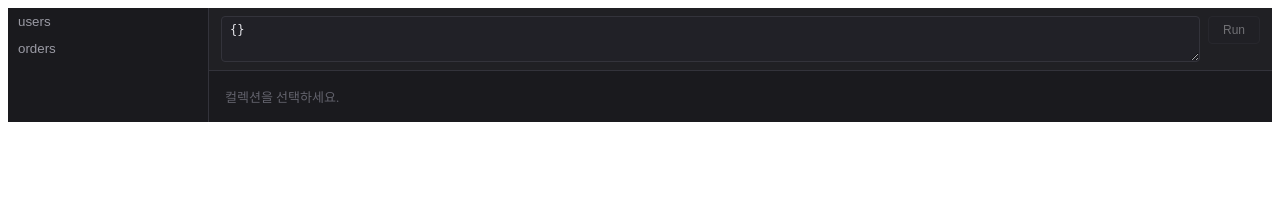
Test case: DocumentsView › 컬렉션 선택 후 Run을 누르면 find 결과가 prettified JSON으로 뜬다
The image size is (1280, 216).
Step 1. Click the button "users" → coordinates (108, 22), box [8,8,208,35]
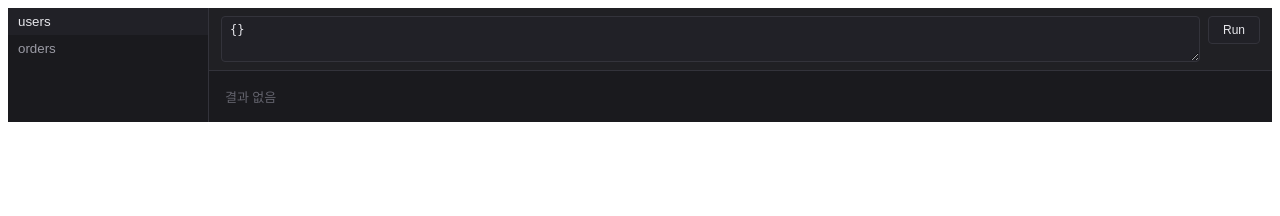
Step 2. Click the button "Run" → coordinates (1234, 30), box [1208,16,1260,44]
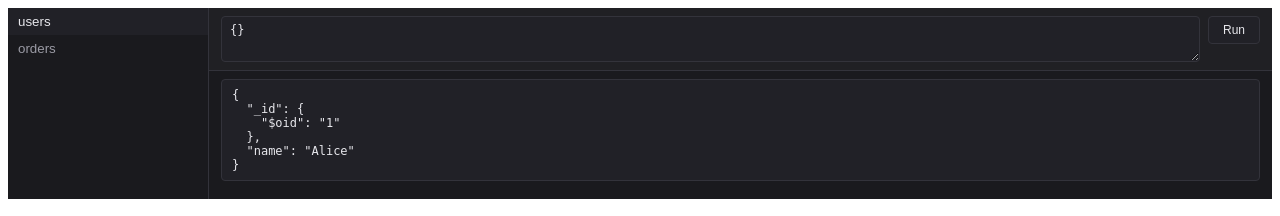
Expected: the text "{ \"_id\": { \"$oid\": \"1\" }, \"name\": \"Alice\" }" is shown, [221,79,1260,181]
